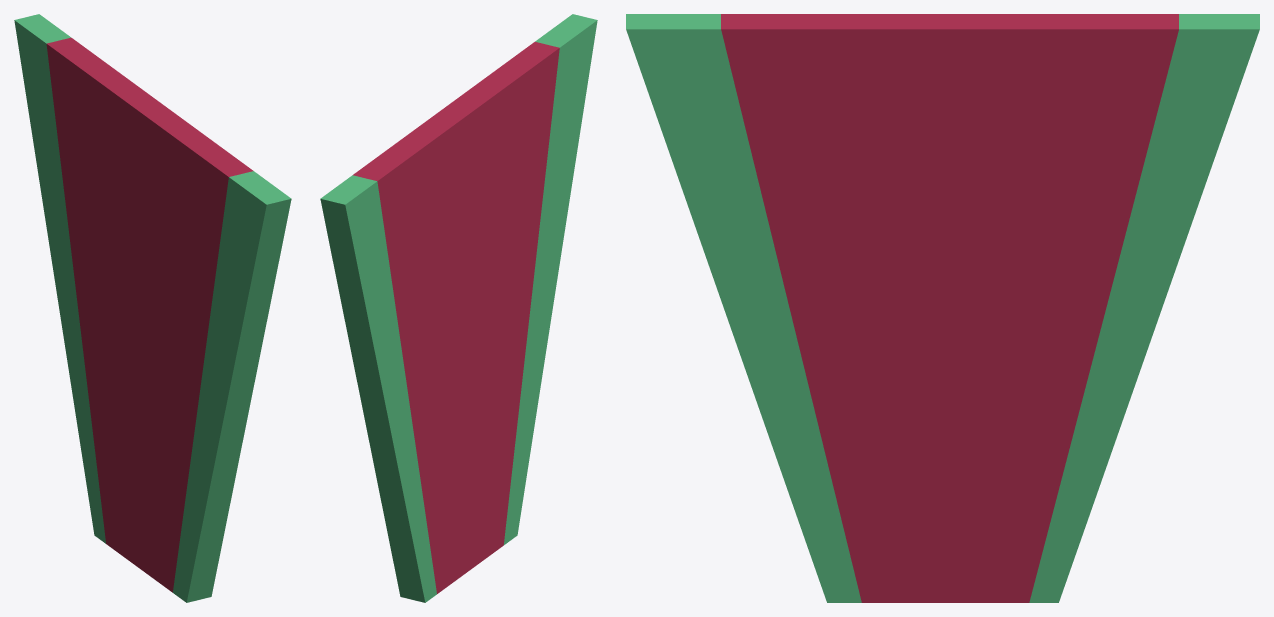
Rendered from plant_autocollect.gltf.
3 renders of one model, left to right at view 1: azimuth 30°, elevation 25°; view 2: azimuth 150°, elevation 25°; view 3: azimuth 270°, elevation 25°, orthographic. The views are drawn at different scales.
Parts seen in each view (by area): view 1: plant_autocollect; view 2: plant_autocollect; view 3: plant_autocollect.
Part boxes in pixels (x1=…): plant_autocollect: x1=14, y1=14, x2=291, y2=602; plant_autocollect: x1=320, y1=14, x2=597, y2=602; plant_autocollect: x1=626, y1=14, x2=1259, y2=602.
Bounding box in the file's own units: 0.0312 × 0.5464 × 0.5473.
1 material, 1 textured.
